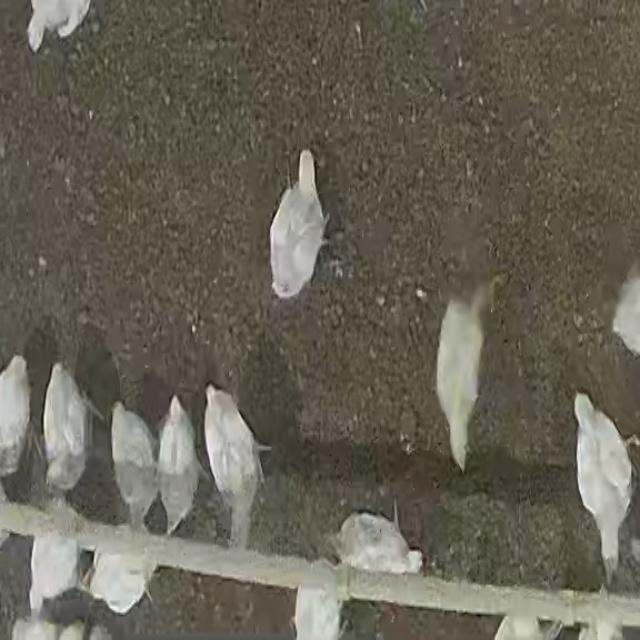chicken: (570, 386, 636, 583), (199, 380, 270, 552), (34, 354, 105, 498), (433, 291, 489, 473), (269, 144, 327, 303), (156, 389, 206, 536), (110, 393, 160, 531)
